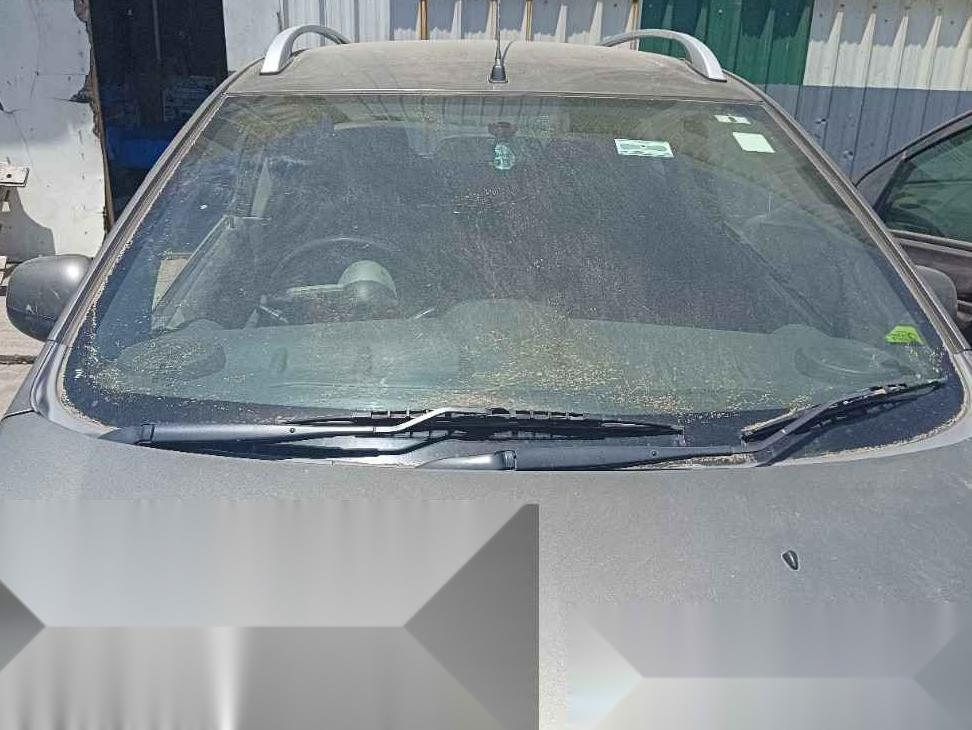FastTag: (607, 128, 680, 168)
not a FastTag: (726, 132, 786, 161), (707, 107, 761, 131)
